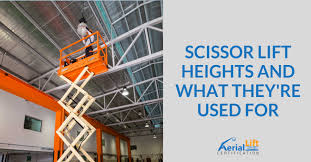Scissor Lift: (54, 30, 110, 162)
